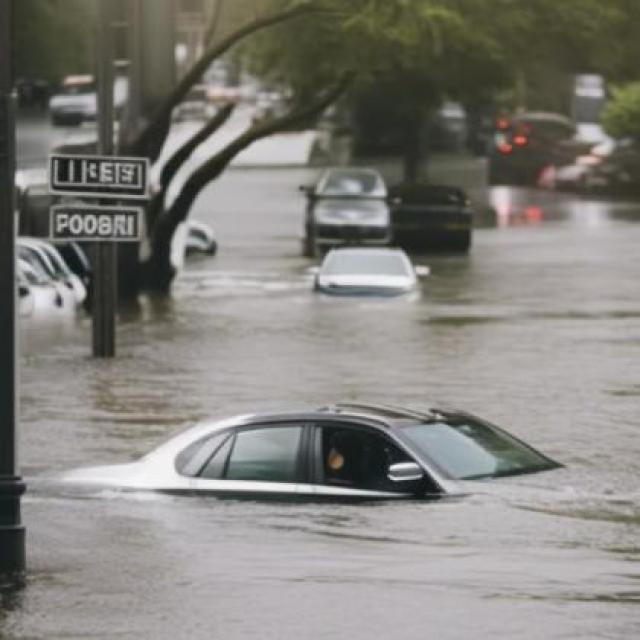water: (15, 166, 638, 478), (0, 469, 639, 638), (170, 119, 251, 207), (16, 113, 99, 189), (428, 156, 499, 228), (152, 124, 204, 184)
